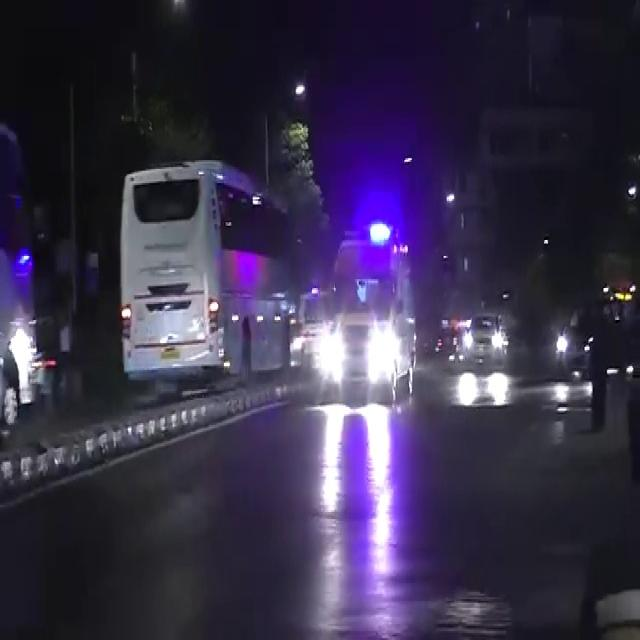ambulance: (313, 224, 428, 440)
